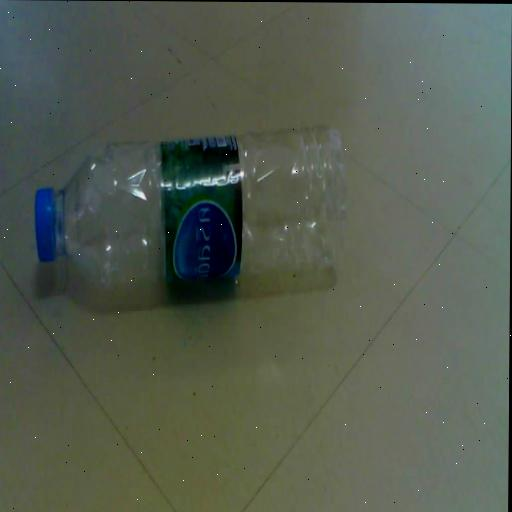bottle: (16, 99, 366, 312)
